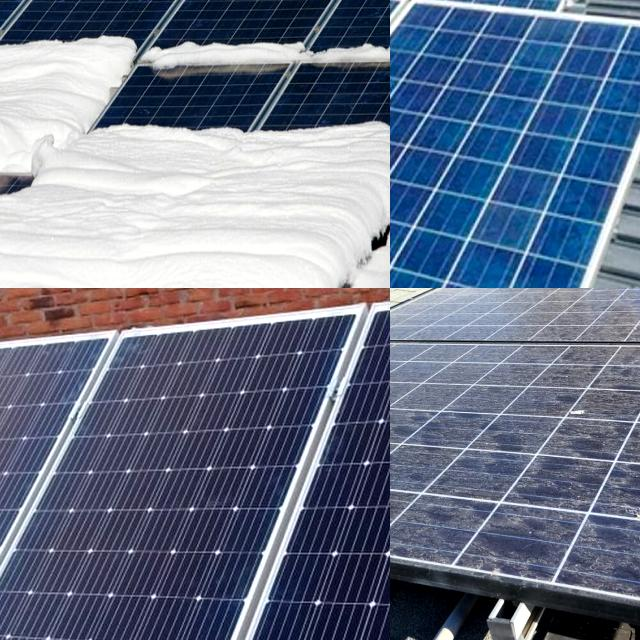crack: (0, 316, 341, 640), (129, 288, 390, 640), (390, 0, 640, 288), (390, 0, 640, 112), (390, 0, 640, 68)
dust: (401, 448, 584, 553), (406, 356, 573, 441), (441, 290, 582, 338), (390, 359, 450, 463), (390, 486, 445, 530)
panel: (99, 114, 390, 194), (0, 14, 165, 99), (145, 31, 309, 112), (0, 122, 141, 197), (0, 210, 94, 279), (325, 29, 390, 91), (348, 219, 390, 288)
